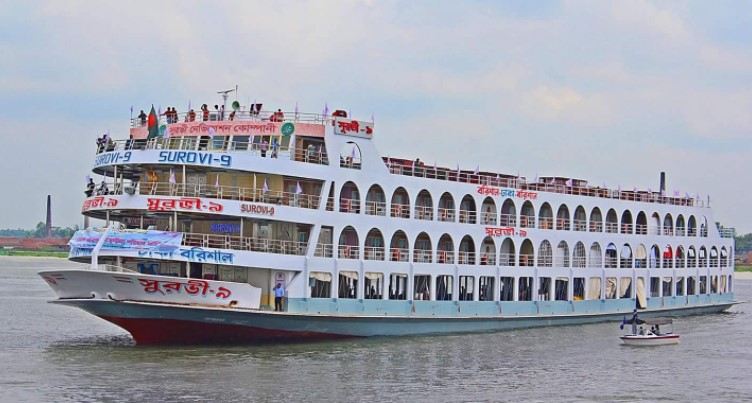boat: (621, 316, 679, 344)
launch: (35, 85, 752, 344)
